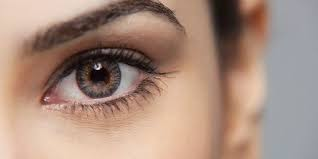pupil: (76, 59, 121, 97)
